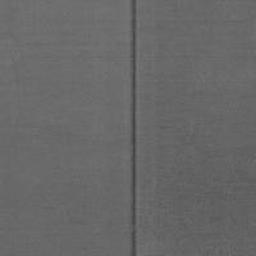Welding line: (130, 0, 137, 256)
